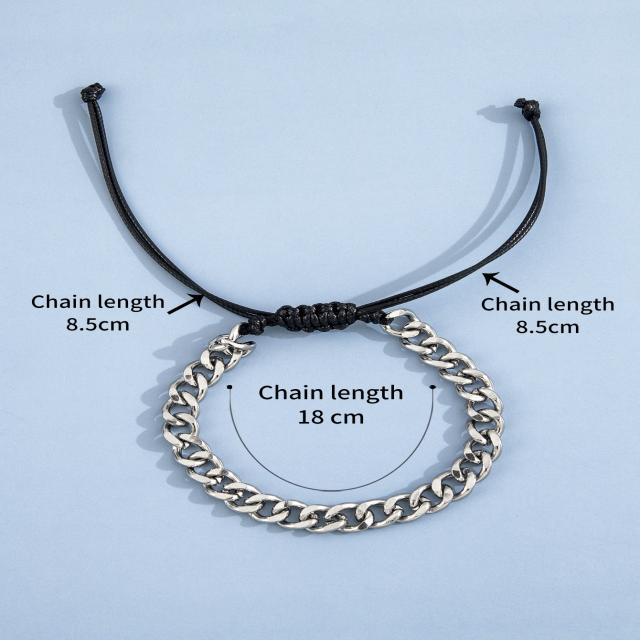bracelet: (0, 22, 585, 590)
